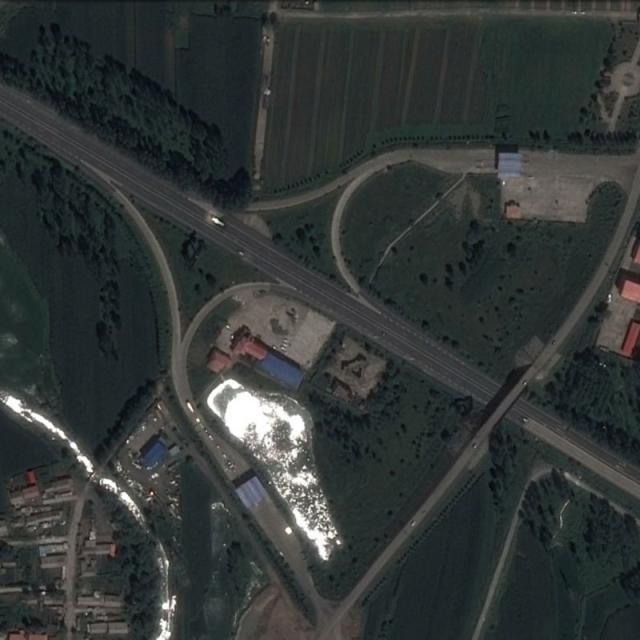vehicle: (211, 217, 224, 226), (186, 401, 194, 414)
